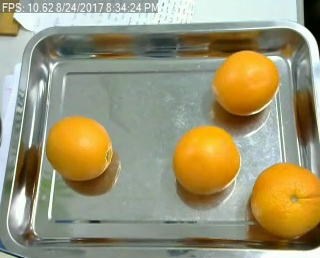Orange: (248, 163, 319, 239), (172, 125, 239, 195), (210, 48, 277, 115), (46, 115, 113, 179)
